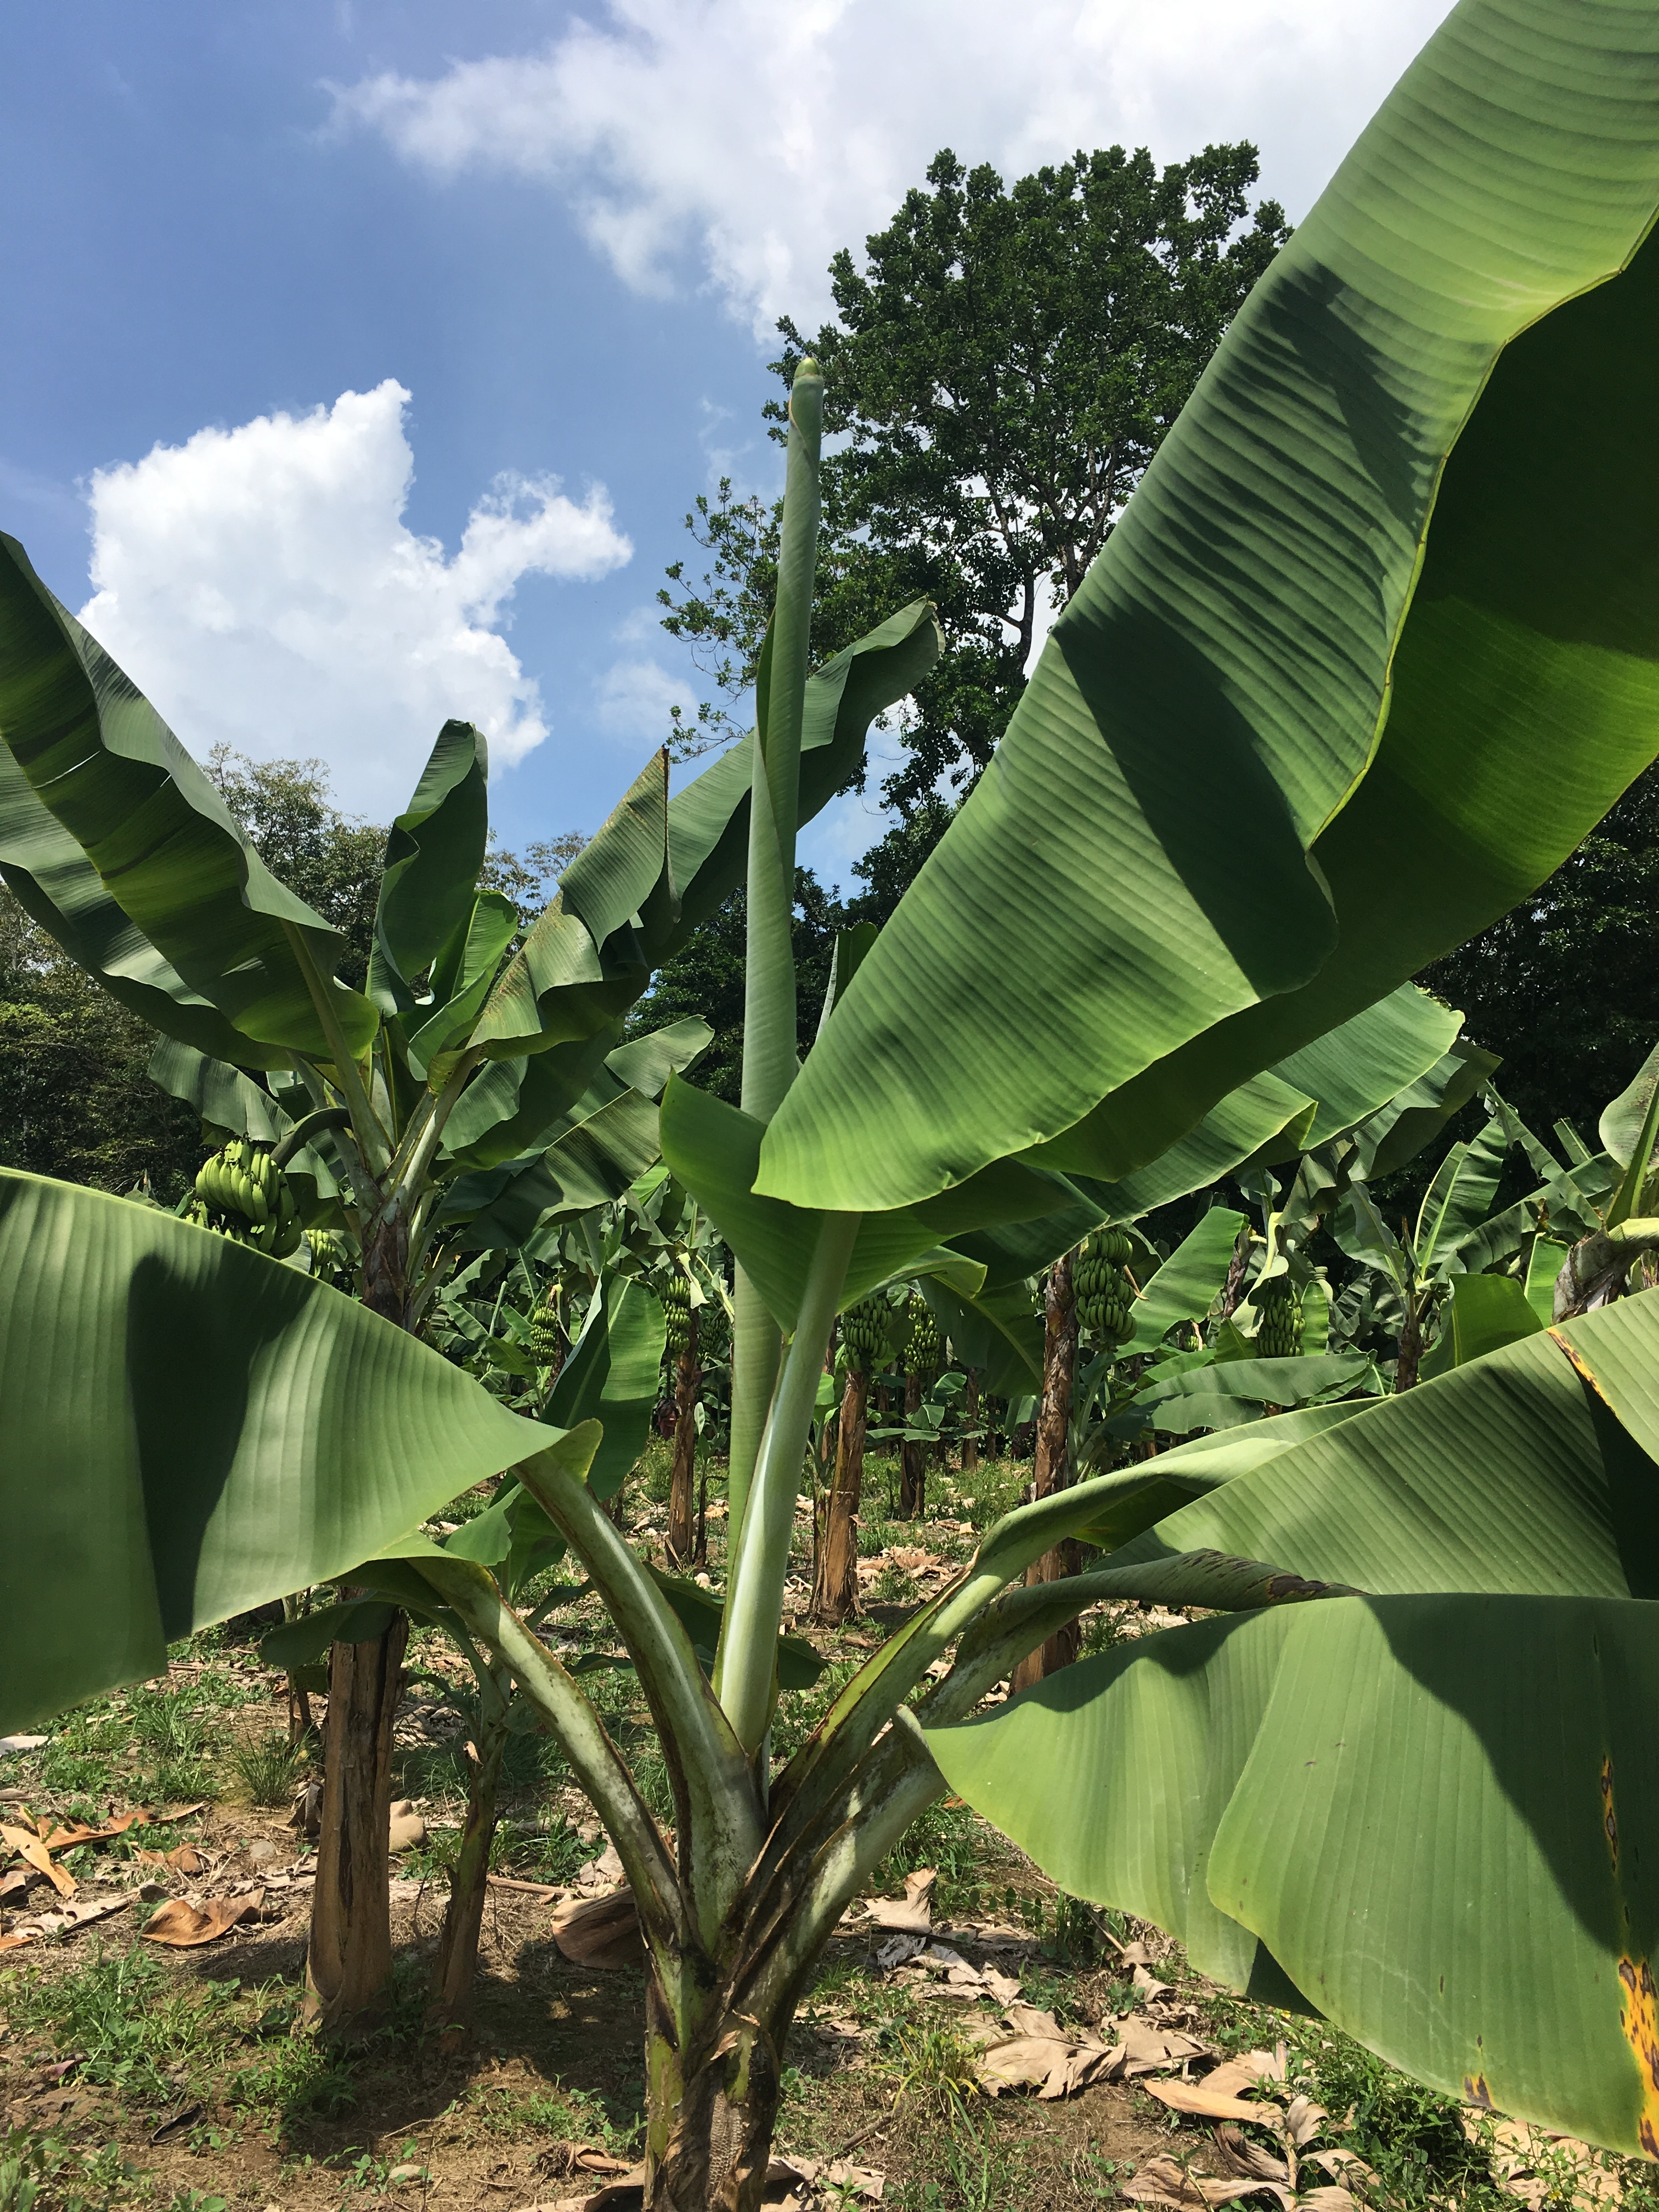candleleafs: (732, 350, 826, 1083)
